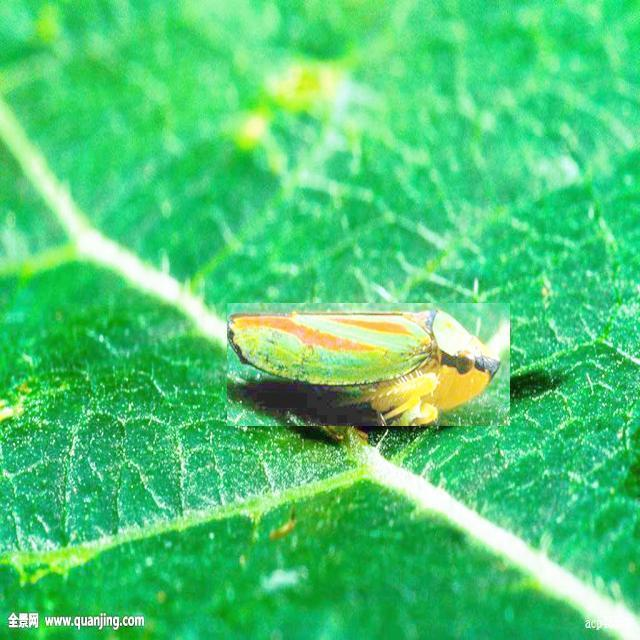green-leafhopper: (227, 303, 510, 426)
